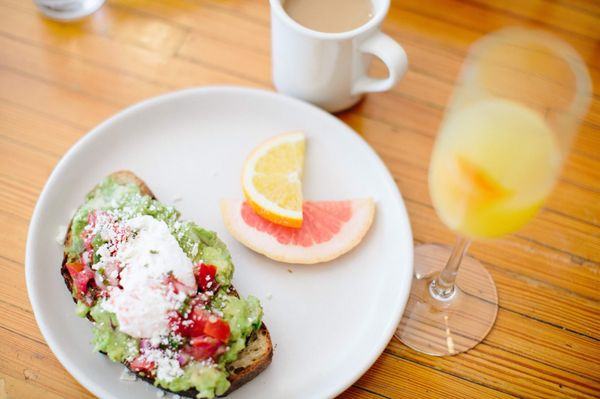pizza: (270, 0, 408, 113)
sushi: (13, 84, 534, 397)
taco: (217, 195, 377, 265), (240, 130, 307, 229)
